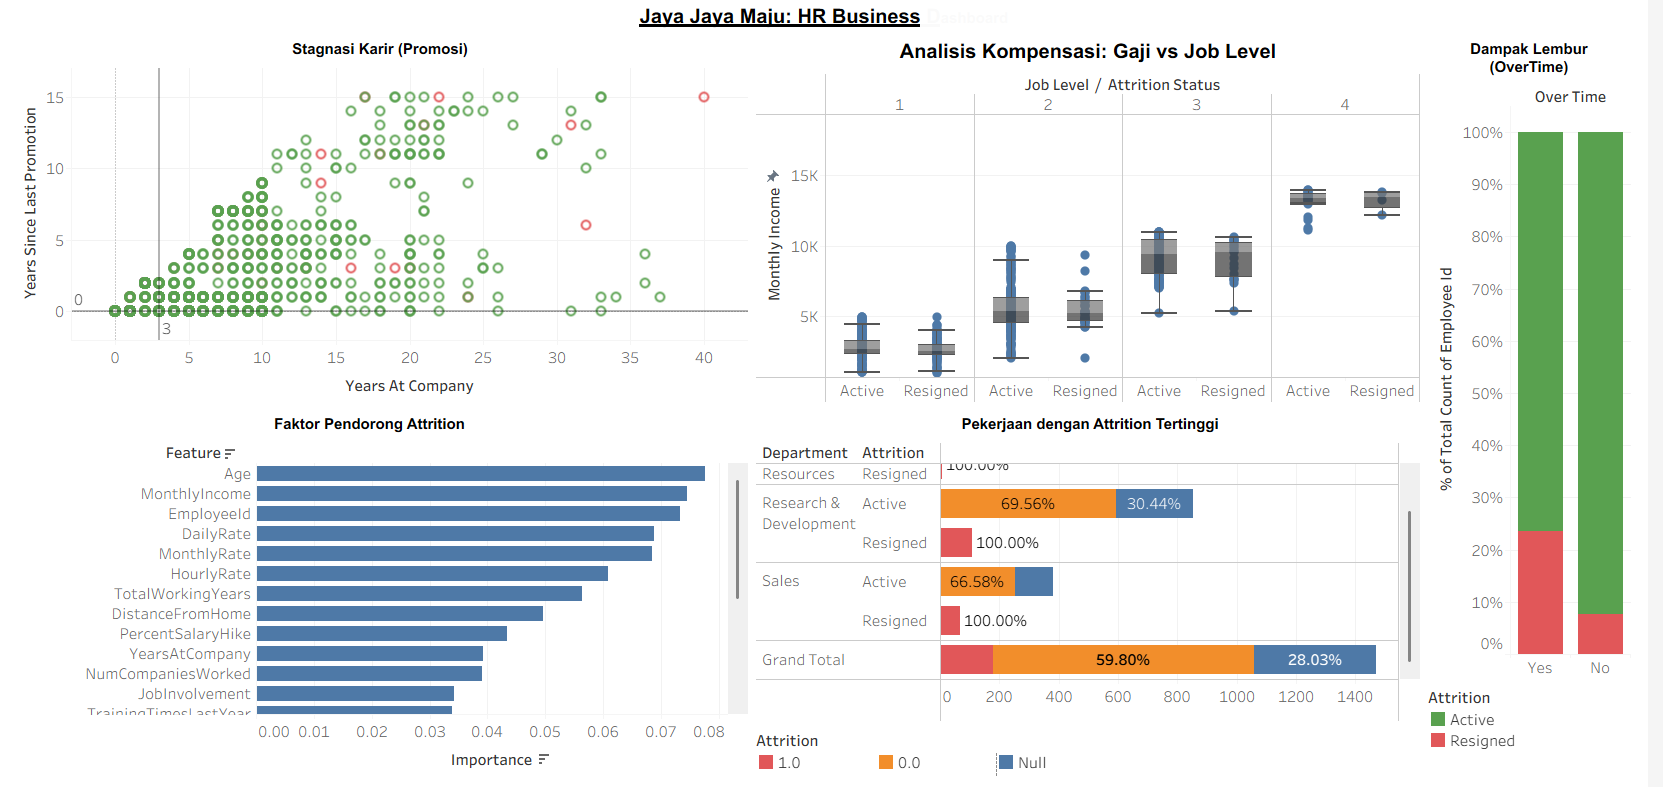

The dashboard page shown, as its layout file describes it:
{"tool":"tableau","page":{"name":"Dashboard 1","canvas":[1000,1000],"units":"permille","ordinal":0},"visuals":[{"type":"text","box":[4.9,10,990.3,40.1]},{"type":"worksheet","title":"Sheet 3","mark":"Automatic","rows":["YearsSinceLastPromotion"],"cols":["YearsAtCompany"],"box":[4.9,50.2,451.5,470.5]},{"type":"worksheet","title":"Sheet 2","mark":"Circle","rows":["MonthlyIncome"],"cols":["JobLevel","Calculation_0810396426846222"],"box":[456.3,50.2,407.8,469.9]},{"type":"worksheet","title":"Sheet 1","mark":"Automatic","rows":["EmployeeId"],"cols":["OverTime"],"box":[864.1,50.2,131.1,816.8]},{"type":"worksheet","title":"Sheet 4","mark":"Automatic","rows":["Department","Calculation_0810396411355149"],"cols":["EmployeeCount"],"box":[456.3,520.1,407.8,400.9]},{"type":"worksheet","title":"Sheet 5","mark":"Automatic","rows":["Feature"],"cols":["Importance"],"box":[4.9,520.7,451.5,469.3]},{"type":"legend","title":"Sheet 1","param":"[federated.0g9uxhp0c49ymo1h9d94u1x3mcgz].[none:Calculation_0810396411355149:nk]","box":[864.1,867,131.1,123]},{"type":"legend","title":"Sheet 4","param":"[federated.0g9uxhp0c49ymo1h9d94u1x3mcgz].[none:Attrition:nk]","box":[456.3,921,407.8,69]}]}

Visuals, with their boxes on the dashboard's canvas, which has no fixed pixel size, in thousandths of its width and height (x1, y1, x2, y2). These are canvas units, not pixel positions in the 1663x787 screenshot, which may show the page scaled, cropped or inside an application window:
text: <box>5,10,995,50</box>
"Sheet 3" worksheet: <box>5,50,456,521</box>
"Sheet 2" worksheet (Circle marks): <box>456,50,864,520</box>
"Sheet 1" worksheet: <box>864,50,995,867</box>
"Sheet 4" worksheet: <box>456,520,864,921</box>
"Sheet 5" worksheet: <box>5,521,456,990</box>
"Sheet 1" legend: <box>864,867,995,990</box>
"Sheet 4" legend: <box>456,921,864,990</box>
